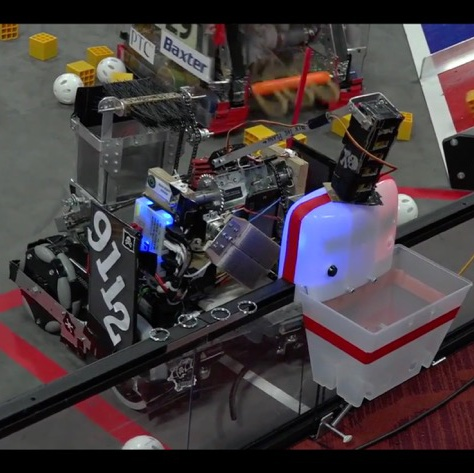robot: (8, 59, 400, 414), (103, 22, 381, 140)
